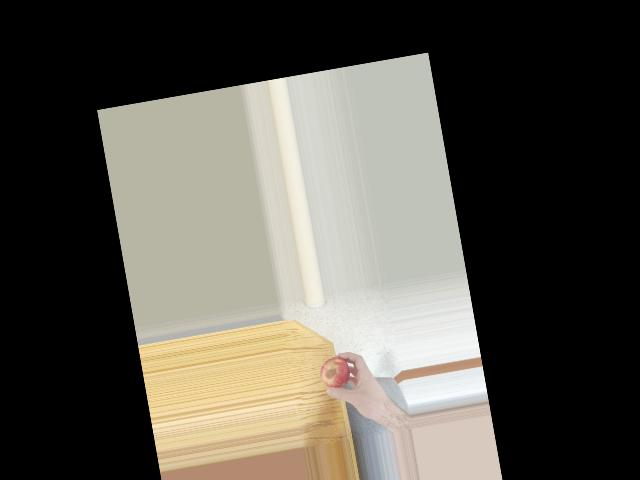apple: (317, 353, 353, 394)
